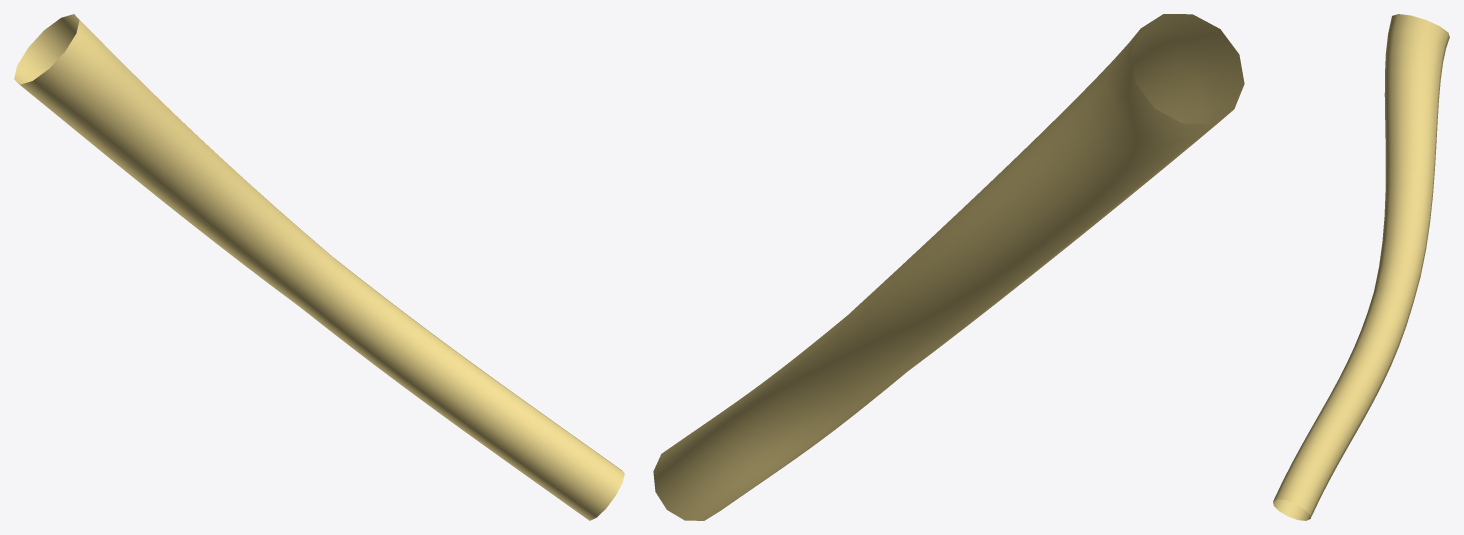
3 renders of one model, left to right at view 1: azimuth 30°, elevation 25°; view 2: azimuth 150°, elevation 25°; view 3: azimuth 270°, elevation 25°, orthographic. The views are drawn at different scales.
Visible parts, largest first — view 1: ZA_41fb1bee1d3d7bc6; view 2: ZA_41fb1bee1d3d7bc6; view 3: ZA_41fb1bee1d3d7bc6.
Boxes of the visible parts, x1,y1,x2,y2 form: ZA_41fb1bee1d3d7bc6: [14, 14, 624, 520]; ZA_41fb1bee1d3d7bc6: [653, 14, 1244, 520]; ZA_41fb1bee1d3d7bc6: [1273, 14, 1449, 520].
Size of the model in its own units: 0.0194 by 0.0195 by 0.00856.
